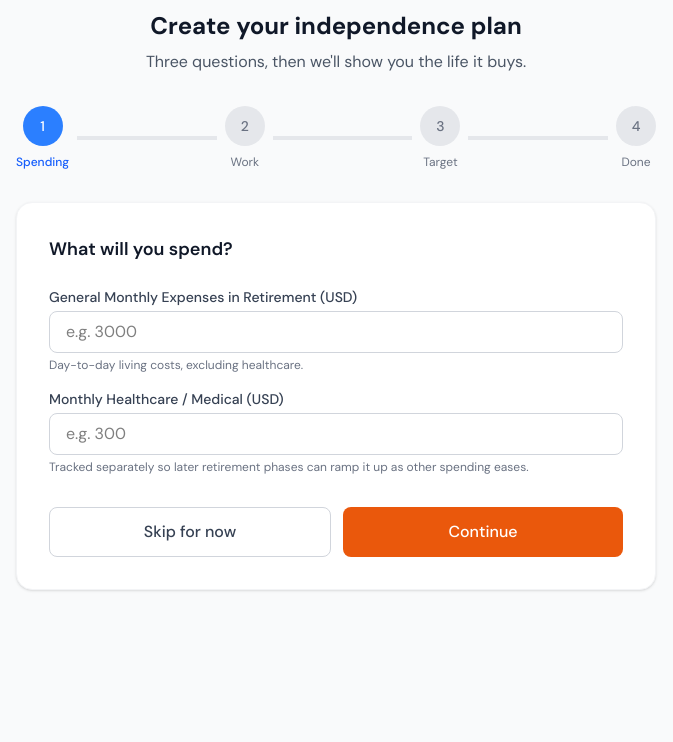
Test case: /independence/setup — guided plan wizard › never asks for a date of birth
Click the button "Continue" at (483, 532), box [343,507,623,557]
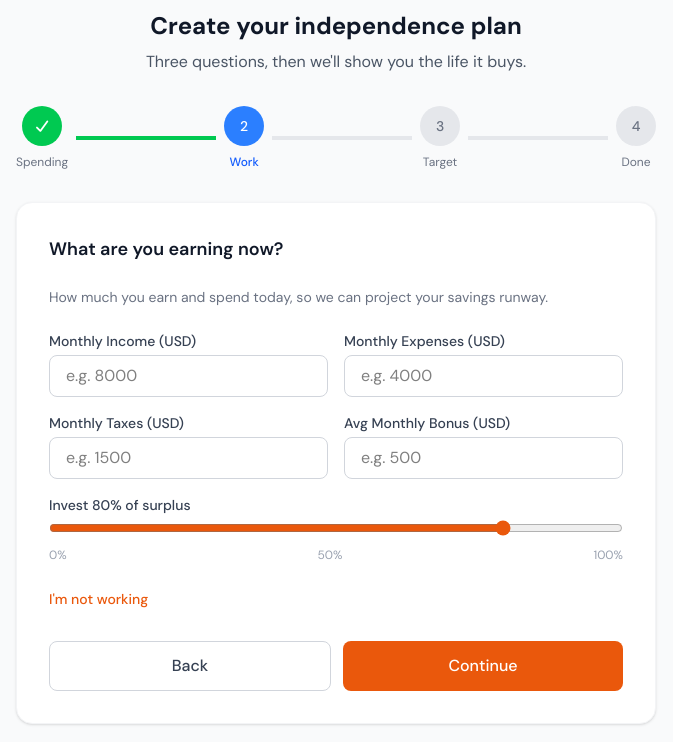
Expected: the number field labelled "Monthly Income (USD)" is shown, [49,355,328,397]
Click the button "Continue" at (483, 666), box [343,641,623,691]
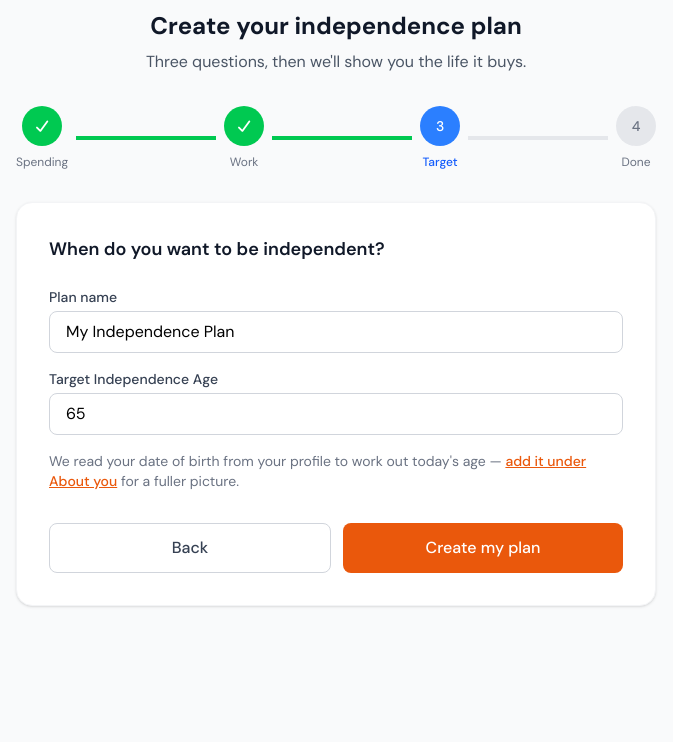
Expected: the number field labelled "Target Independence Age" is shown, [49,393,623,435]
Expected: the text "We read your date of birth from your profile" is shown, [49,452,502,470]
